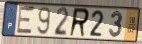2: (53, 6, 69, 38), (88, 9, 105, 38)
3: (108, 10, 124, 39)
9: (36, 6, 52, 36)
E: (15, 4, 36, 36)
R: (68, 7, 91, 39)
